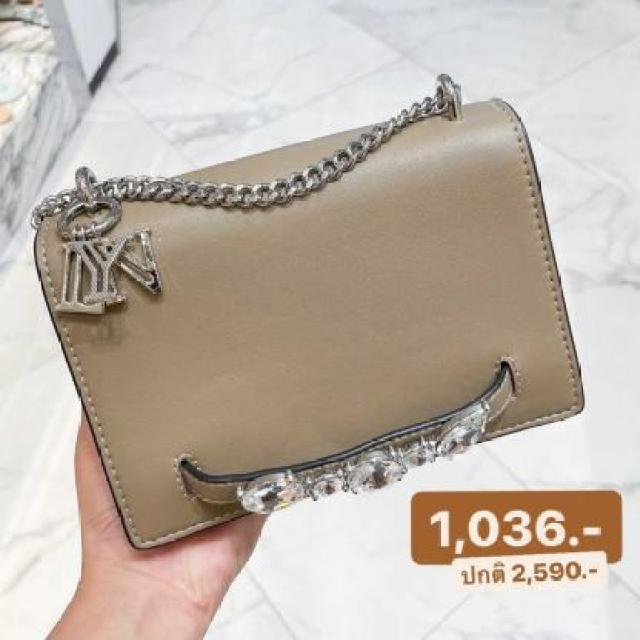Bag: (10, 50, 605, 575)
